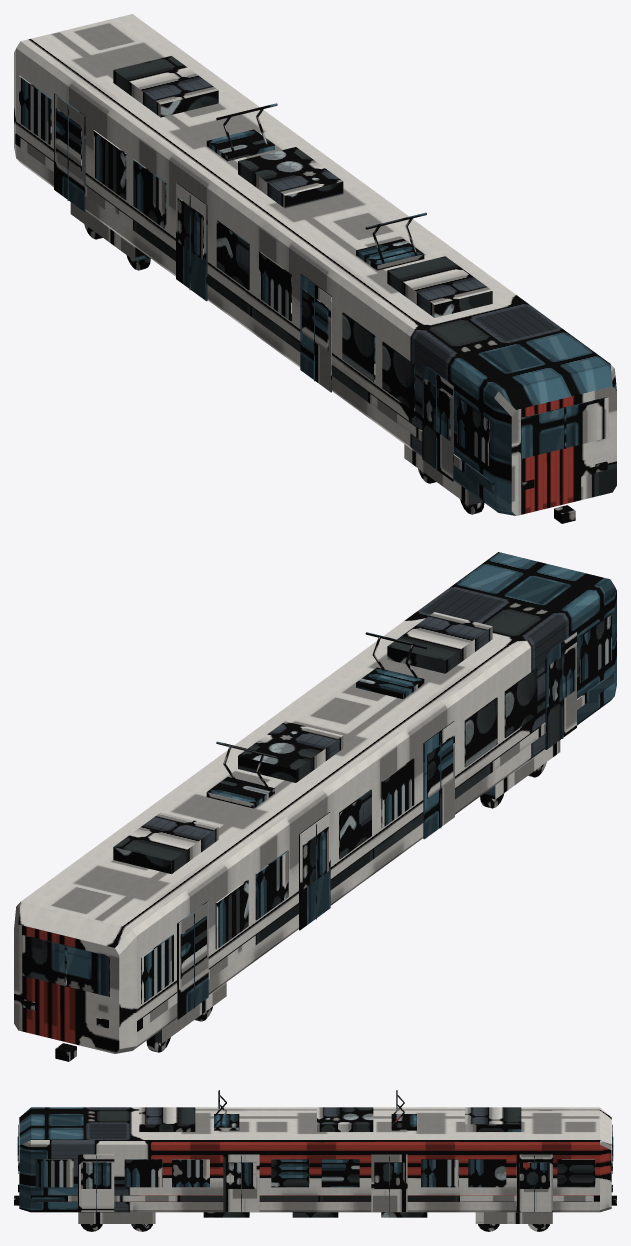
File: commuter_002.obj
3 renders of one model, top to bottom at view 1: azimuth 30°, elevation 25°; view 2: azimuth 150°, elevation 25°; view 3: azimuth 270°, elevation 25°, orthographic. The views are drawn at different scales.
Parts seen in each view (by area): view 1: commuter_002; view 2: commuter_002; view 3: commuter_002.
Part boxes in pixels (bbox=[...]): commuter_002: bbox=[14, 14, 616, 523]; commuter_002: bbox=[14, 552, 616, 1061]; commuter_002: bbox=[14, 1090, 616, 1231].
Size of the model in its own units: 2.94 by 4.58 by 20.35.
Materials: 1 (1 with a texture image).
